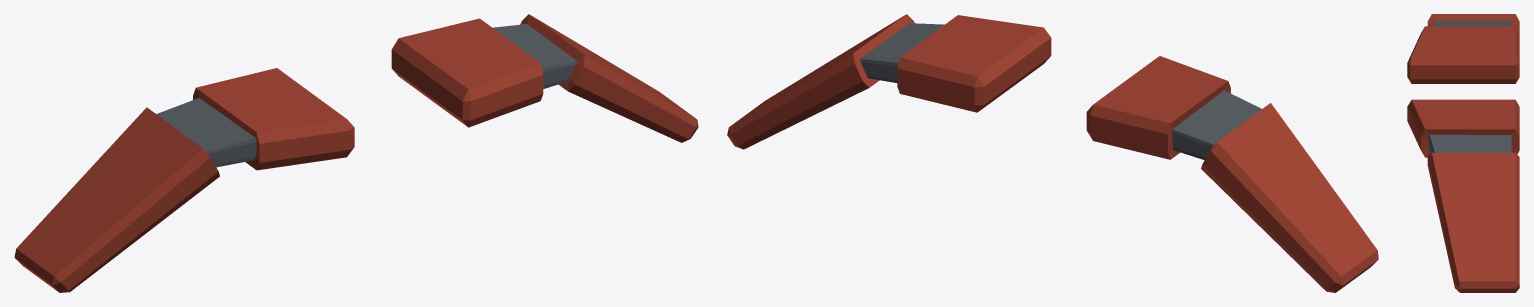
The model's file is Personal_Vehicle_04_Auxillary_Wings_Red.fbx.
3 renders of one model, left to right at view 1: azimuth 30°, elevation 25°; view 2: azimuth 150°, elevation 25°; view 3: azimuth 270°, elevation 25°, orthographic. The views are drawn at different scales.
Visible parts, largest first — view 1: Personal_Vehicle_04_Auxillary_Wings_Red; view 2: Personal_Vehicle_04_Auxillary_Wings_Red; view 3: Personal_Vehicle_04_Auxillary_Wings_Red.
Boxes of the visible parts, x1,y1,x2,y2 form: Personal_Vehicle_04_Auxillary_Wings_Red: (14,14,698,292); Personal_Vehicle_04_Auxillary_Wings_Red: (727,14,1378,292); Personal_Vehicle_04_Auxillary_Wings_Red: (1407,14,1519,292).
Size of the model in its own units: 166 by 33.44 by 33.49.
1 material, 1 textured.
